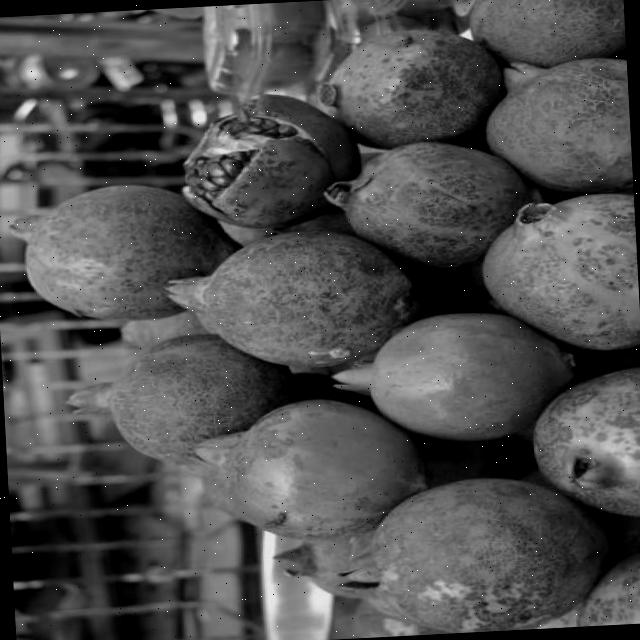overripe: (331, 473, 607, 640), (165, 226, 418, 376), (8, 174, 207, 330), (58, 328, 265, 473), (477, 188, 640, 356), (178, 80, 352, 232), (484, 42, 634, 196), (306, 23, 492, 146), (531, 362, 640, 526)
